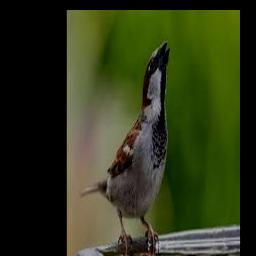Sparrow: (80, 41, 169, 254)
